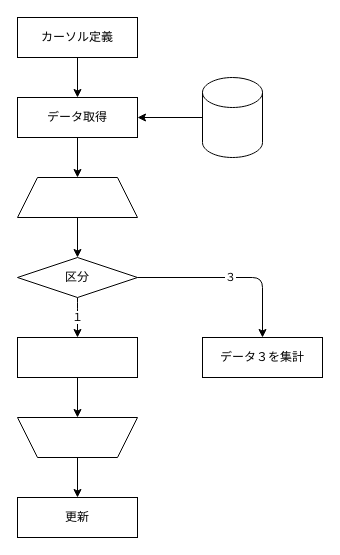
This 340x555 diagram has some shape labels left out. Here are the shapes that lost their labels. From the top down, the box of each, then its label:
(16, 176, 138, 218): EOFまで 繰り返す
(16, 336, 138, 378): データ１を集計
